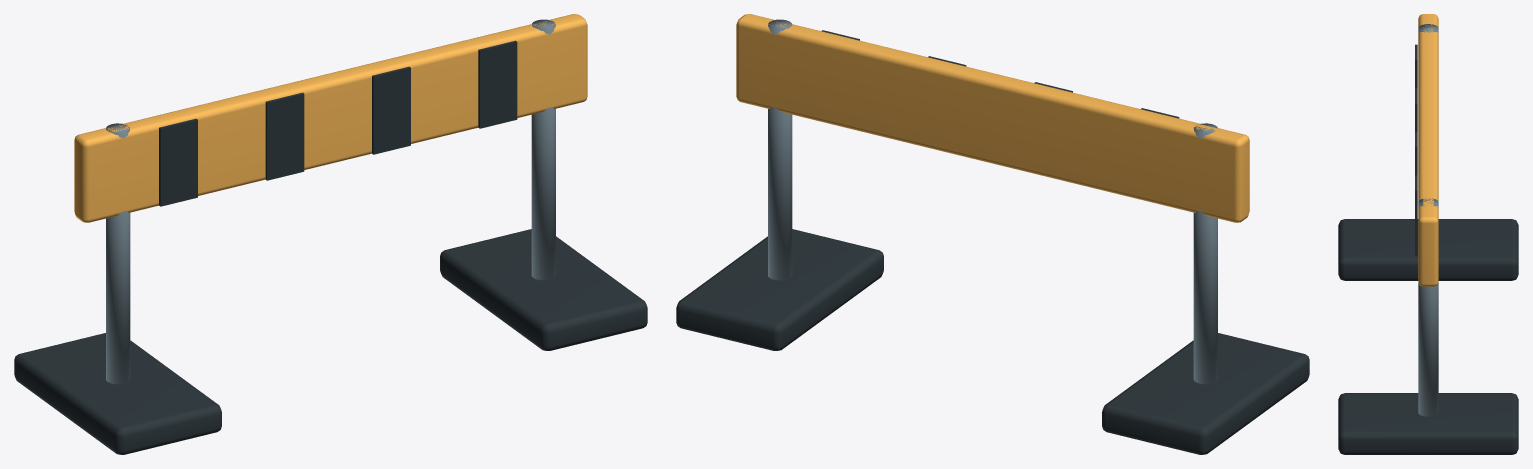
Rendered from SM_FE_Barrier.fbx.
The picture shows the model from 3 angles, left to right: view 1: azimuth 30°, elevation 25°; view 2: azimuth 150°, elevation 25°; view 3: azimuth 270°, elevation 25°; orthographic projection. The views are drawn at different scales.
Visible parts, largest first — view 1: SM_FE_Barrier; view 2: SM_FE_Barrier; view 3: SM_FE_Barrier.
Part boxes in pixels (x1,y1,x2,y2): SM_FE_Barrier: (14, 14, 647, 454); SM_FE_Barrier: (676, 14, 1309, 454); SM_FE_Barrier: (1338, 14, 1518, 454).
Bounding box in the file's own units: 200 × 70 × 100.
